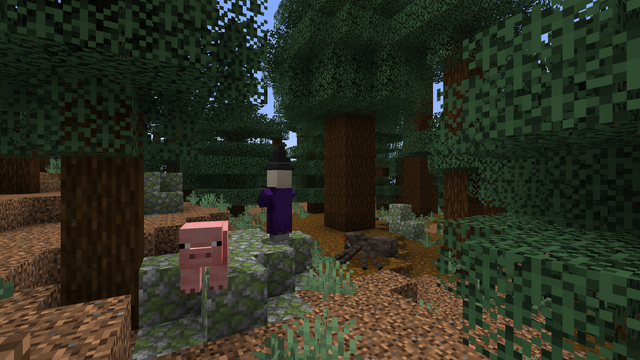araignees: (336, 227, 397, 270)
cochons: (175, 218, 242, 297)
sorcieres: (265, 166, 294, 243)
